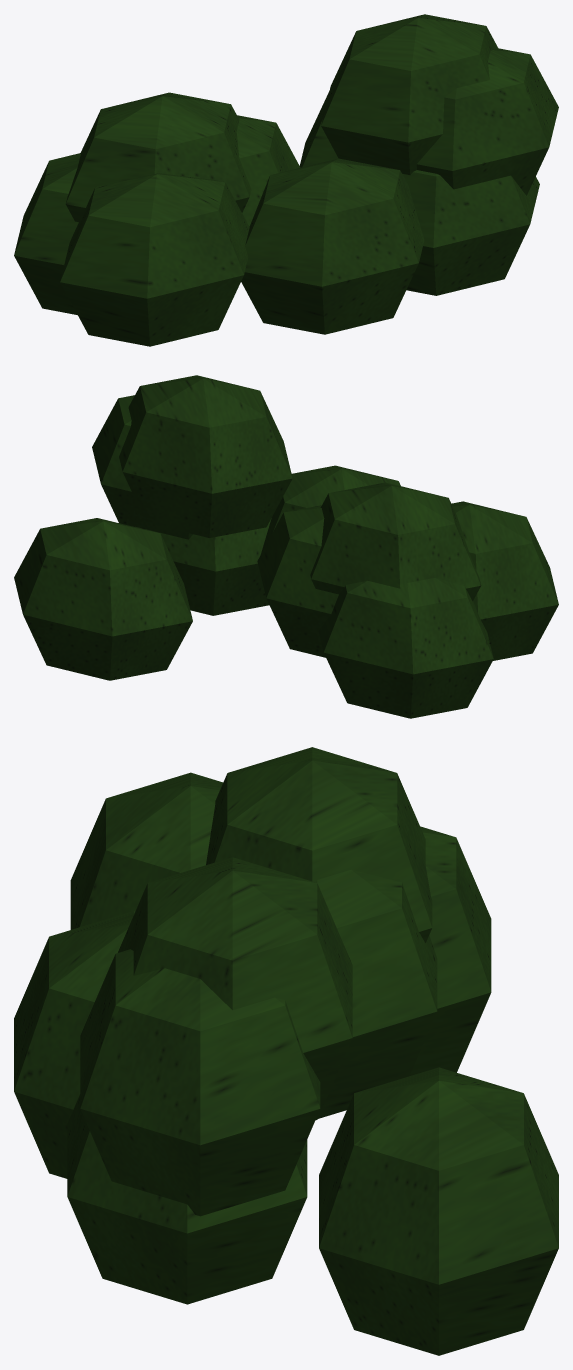
File: PROP-B7292E77C7F9_lod2.glb
3 views of the same model, one above another, from view 1: azimuth 30°, elevation 25°; view 2: azimuth 150°, elevation 25°; view 3: azimuth 270°, elevation 25° (orthographic). The views are drawn at different scales.
Parts seen in each view (by area): view 1: foliage.006; view 2: foliage.006; view 3: foliage.006.
Boxes of the visible parts, left/top/right/bottom form: foliage.006: left=14, top=14, right=558, bottom=346; foliage.006: left=14, top=375, right=558, bottom=718; foliage.006: left=14, top=747, right=558, bottom=1355.
Size of the model in its own units: 1.58 by 0.8421 by 0.9438.
Materials: 1 (1 with a texture image).
